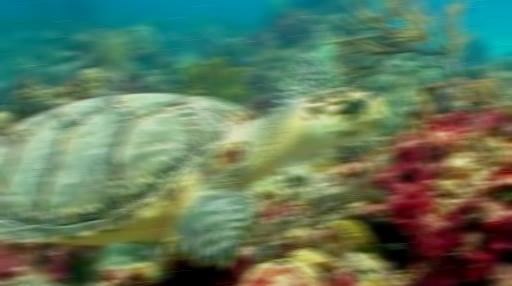Fish: (0, 54, 386, 266)
